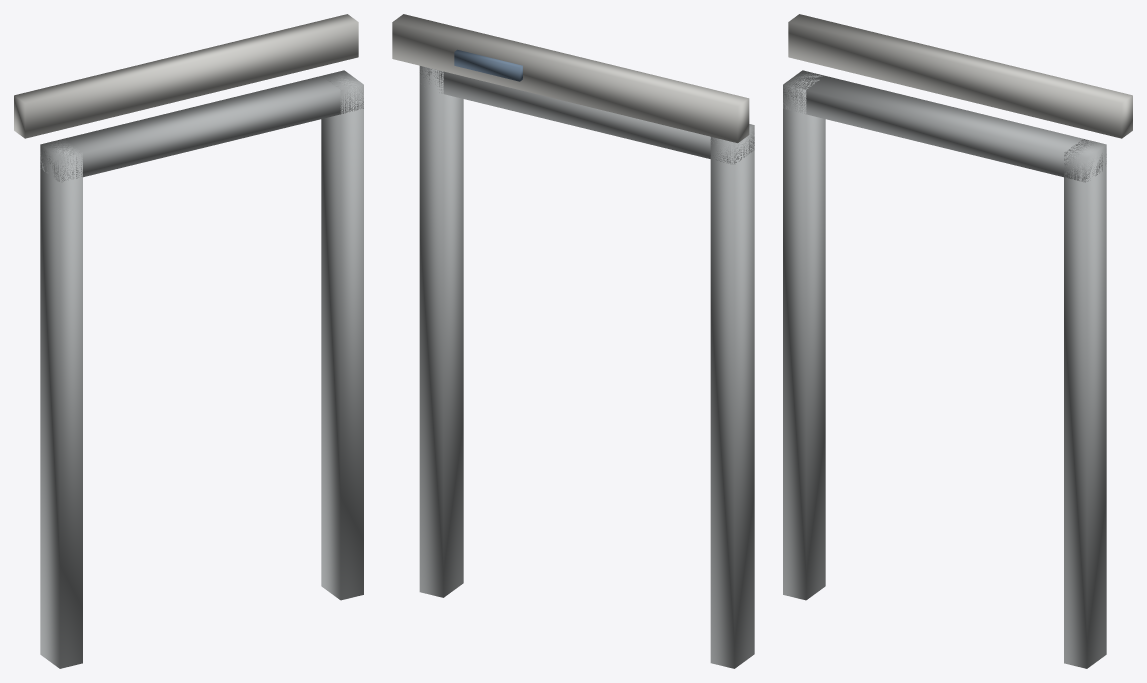
The model's file is doorway_hospital_w122_h220_d16.glb.
3 views of the same model, side by side, from view 1: azimuth 30°, elevation 25°; view 2: azimuth 150°, elevation 25°; view 3: azimuth 330°, elevation 25° (orthographic). The views are drawn at different scales.
Parts seen in each view (by area): view 1: world; view 2: world; view 3: world.
Part boxes in pixels (left/top/right/bottom): world: left=14, top=14, right=363, bottom=668; world: left=392, top=14, right=754, bottom=668; world: left=783, top=14, right=1132, bottom=668.
Size of the model in its own units: 1.58 by 2.51 by 0.28.
